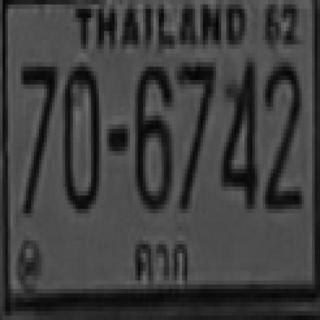N00: (62, 62, 99, 209)
N02: (263, 58, 299, 204)
N04: (218, 58, 255, 204)
N06: (133, 62, 169, 209)
N07: (18, 62, 55, 213), (177, 60, 213, 207)
P69: (127, 228, 193, 286)
